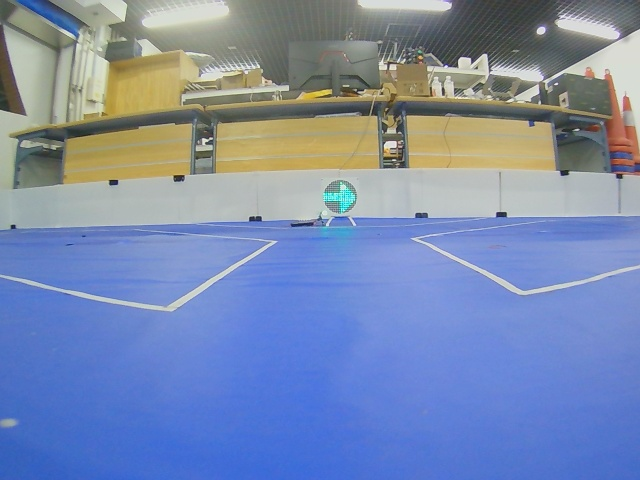right_green: (323, 180, 357, 214)
